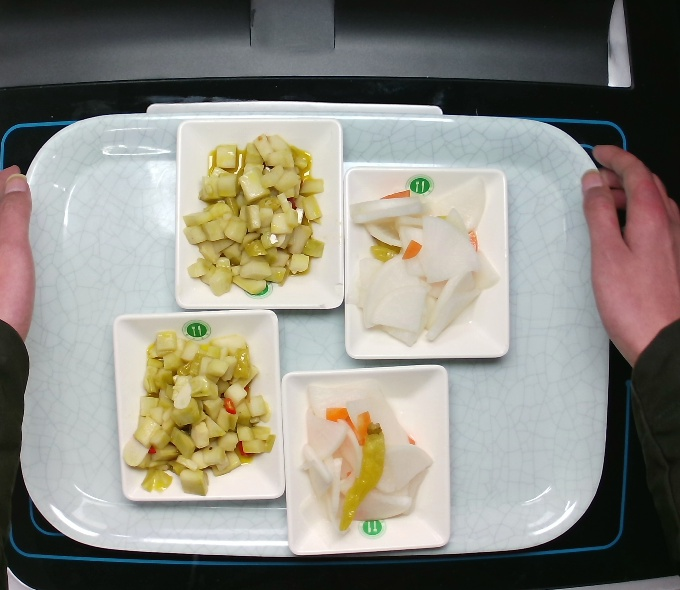wcq-LuLuoBo: (346, 182, 497, 347), (295, 377, 430, 538)
wcq-TangCuOu: (123, 331, 283, 498), (182, 131, 331, 300)
